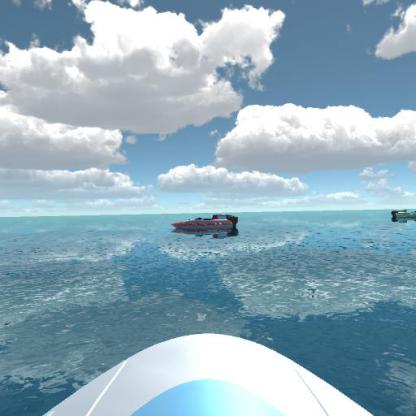usv0: (389, 203, 416, 223)
usv3: (169, 209, 245, 241)
